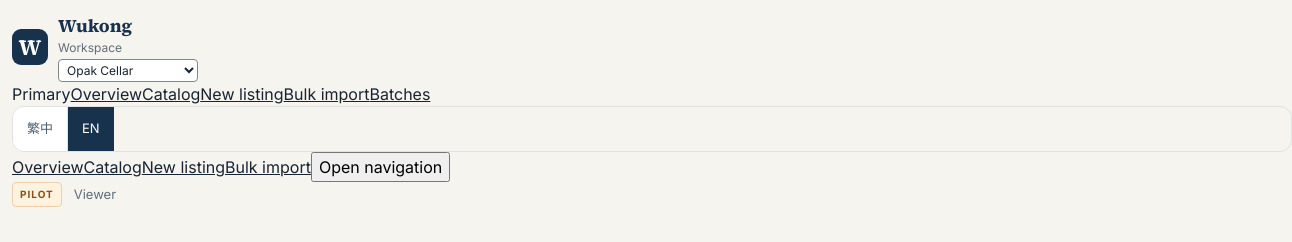
Test case: AppShellNav › submits a workspace choice and reports when access is denied
Select "Second workspace" in the dropdown with test id "workspace-select" at [128, 70], box [58, 59, 198, 82]
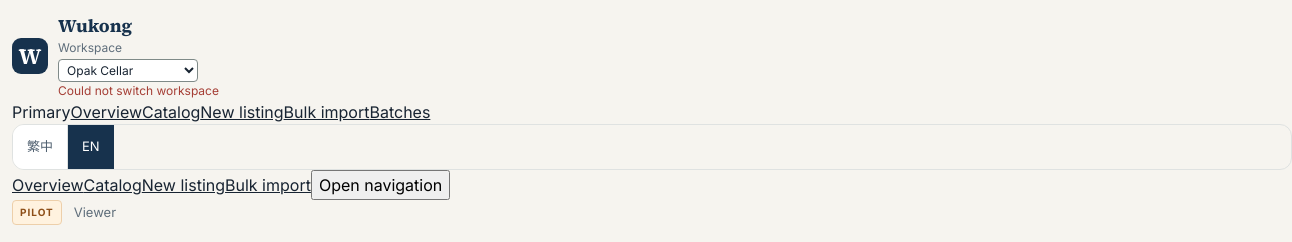
Now the message "Could not switch workspace" is shown, box [58, 82, 219, 100]
